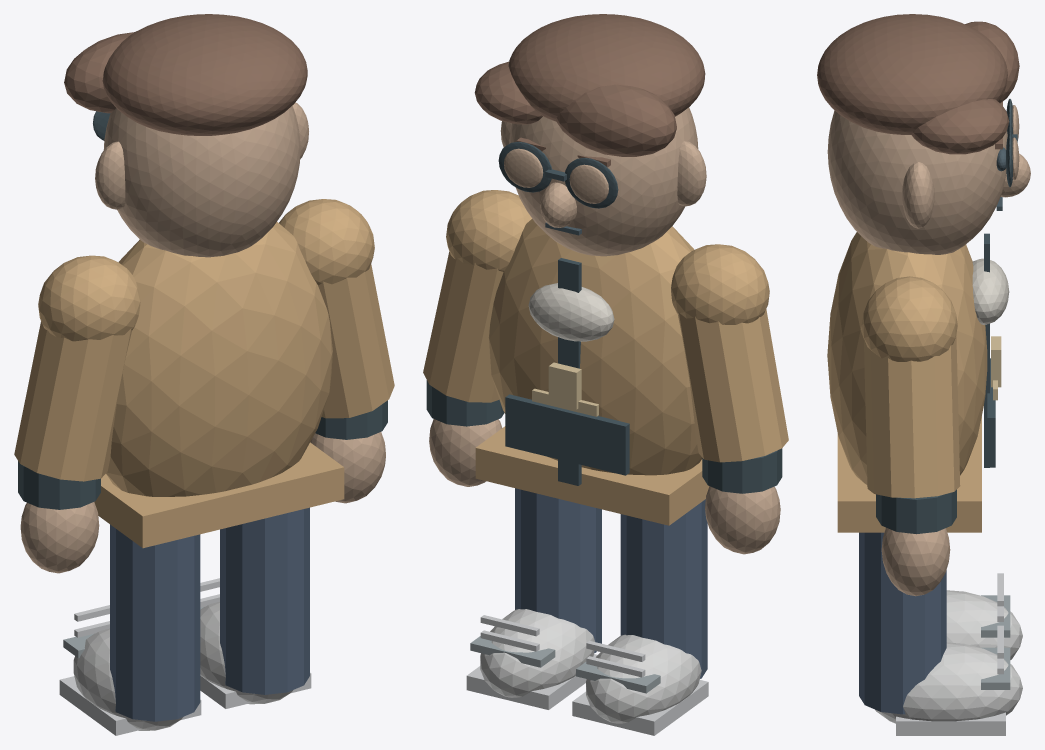
File: student_roommate.glb
The picture shows the model from 3 angles, left to right: view 1: azimuth 30°, elevation 25°; view 2: azimuth 150°, elevation 25°; view 3: azimuth 270°, elevation 25°; orthographic projection. The views are drawn at different scales.
Parts seen in each view (by area): view 1: StudentPart_orange, StudentPart_denim2, StudentPart_skin1, StudentPart_hair2, StudentPart_sneaker, StudentPart_dark, StudentPart_white; view 2: StudentPart_orange, StudentPart_skin1, StudentPart_hair2, StudentPart_denim2, StudentPart_dark, StudentPart_sneaker, StudentPart_white, StudentPart_cream, StudentPart_gold, StudentPart_grey; view 3: StudentPart_orange, StudentPart_skin1, StudentPart_hair2, StudentPart_denim2, StudentPart_sneaker, StudentPart_dark, StudentPart_white, StudentPart_cream, StudentPart_grey, StudentPart_gold.
Boxes of the visible parts, x1,y1,x2,y2 form: StudentPart_orange: (14, 199, 394, 548); StudentPart_denim2: (110, 507, 309, 721); StudentPart_skin1: (20, 102, 385, 573); StudentPart_hair2: (64, 14, 307, 135); StudentPart_sneaker: (73, 602, 292, 730); StudentPart_dark: (18, 111, 387, 509); StudentPart_white: (59, 578, 311, 735); StudentPart_orange: (423, 190, 788, 525); StudentPart_skin1: (429, 107, 780, 554); StudentPart_hair2: (474, 14, 705, 167); StudentPart_denim2: (515, 488, 707, 678); StudentPart_dark: (426, 141, 782, 493); StudentPart_sneaker: (480, 609, 701, 723); StudentPart_white: (466, 615, 708, 735); StudentPart_cream: (528, 283, 614, 341); StudentPart_gold: (532, 362, 598, 416); StudentPart_grey: (470, 636, 660, 693); StudentPart_orange: (827, 232, 987, 532); StudentPart_skin1: (827, 105, 1030, 596); StudentPart_hair2: (817, 14, 1019, 154); StudentPart_denim2: (859, 532, 946, 714); StudentPart_sneaker: (875, 590, 1022, 723); StudentPart_dark: (876, 99, 1017, 534); StudentPart_white: (896, 573, 1005, 735); StudentPart_cream: (972, 258, 1009, 324); StudentPart_grey: (981, 595, 1010, 689); StudentPart_gold: (991, 336, 1001, 400).
Size of the model in its own units: 1.2 by 2.16 by 0.623.
